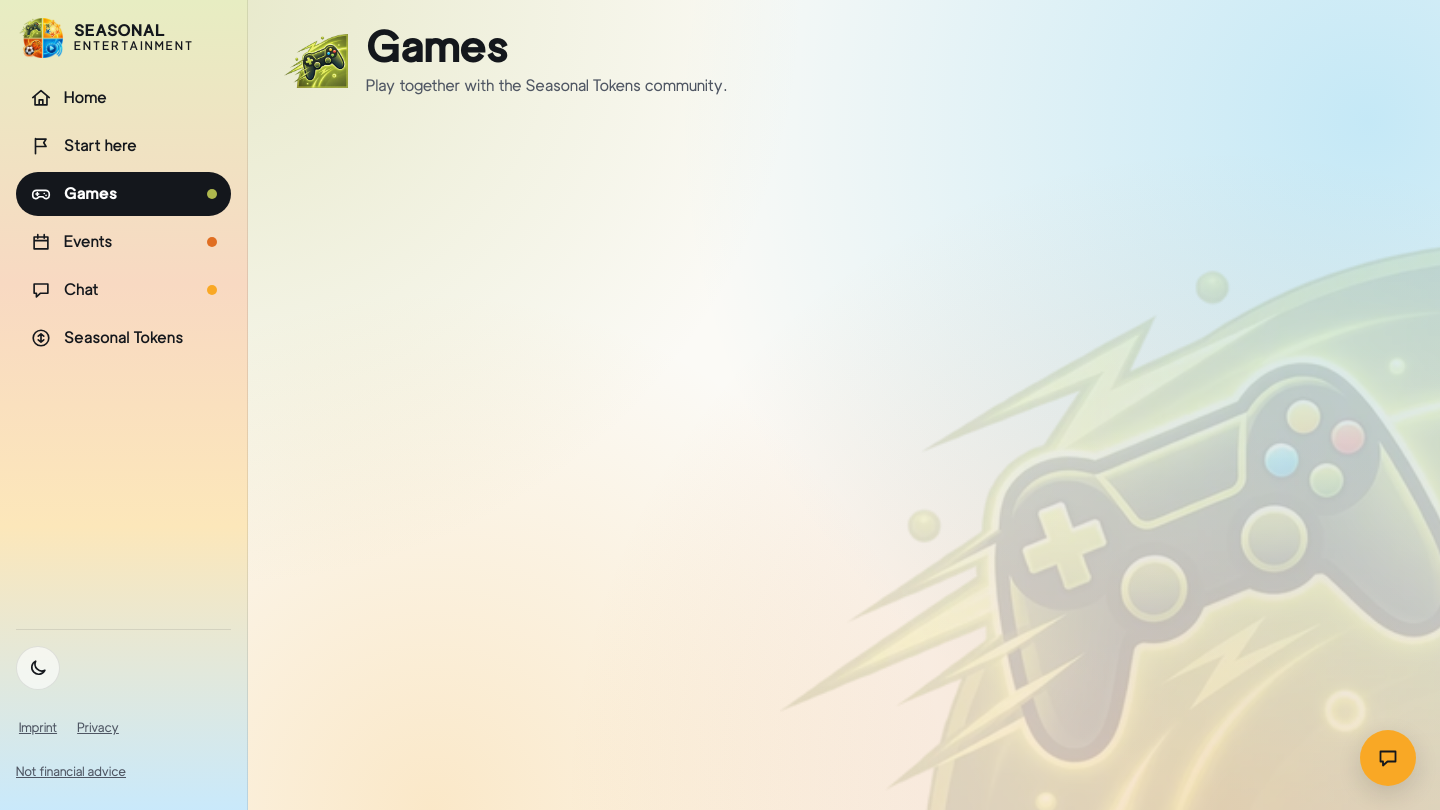
Test: the drawer › the close button closes it too; "Open full chat" leads to /chat
Click the button named "Chat": point(1388, 758) [1360,730,1416,786]
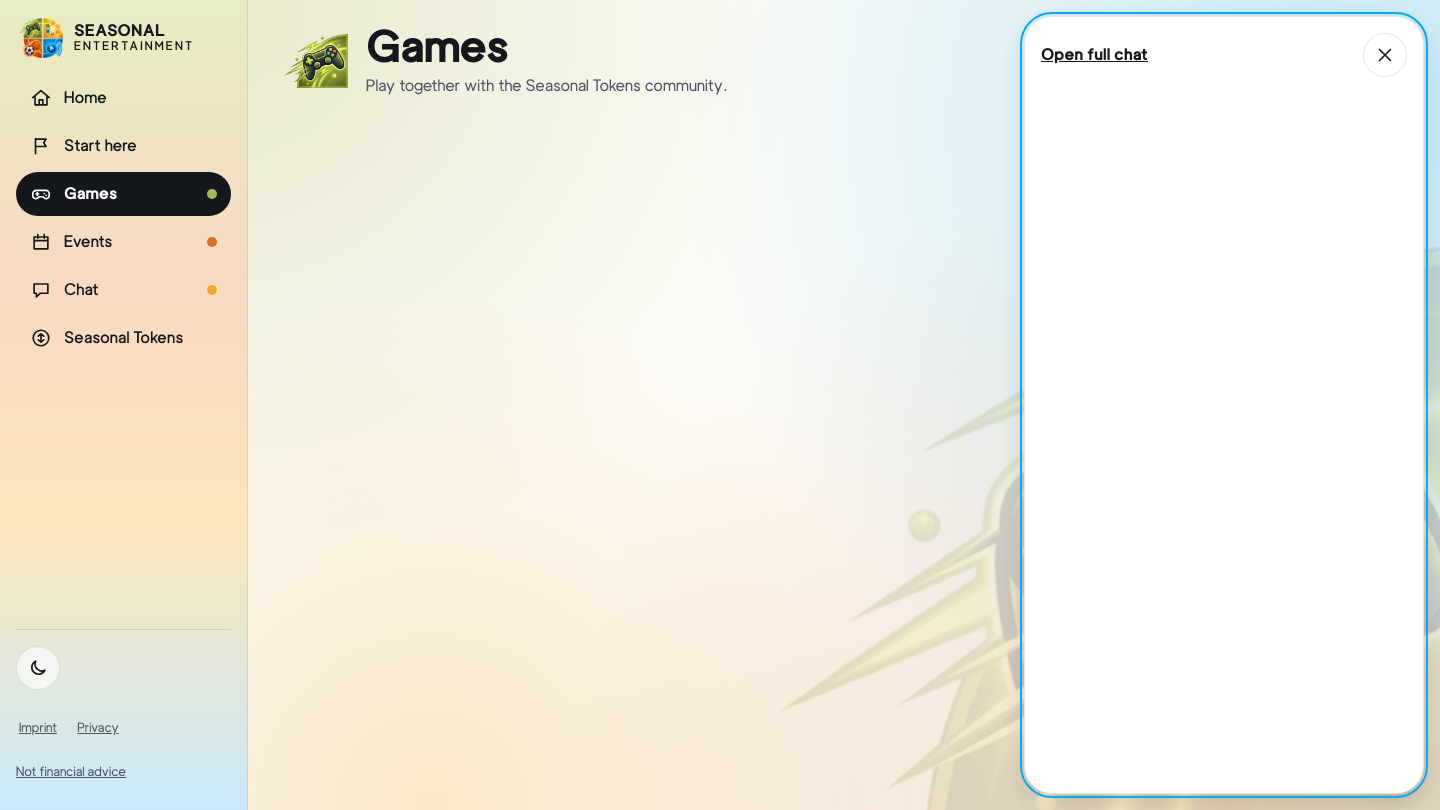
Click the button named "Close chat": point(1385, 55) [1363,33,1407,77]
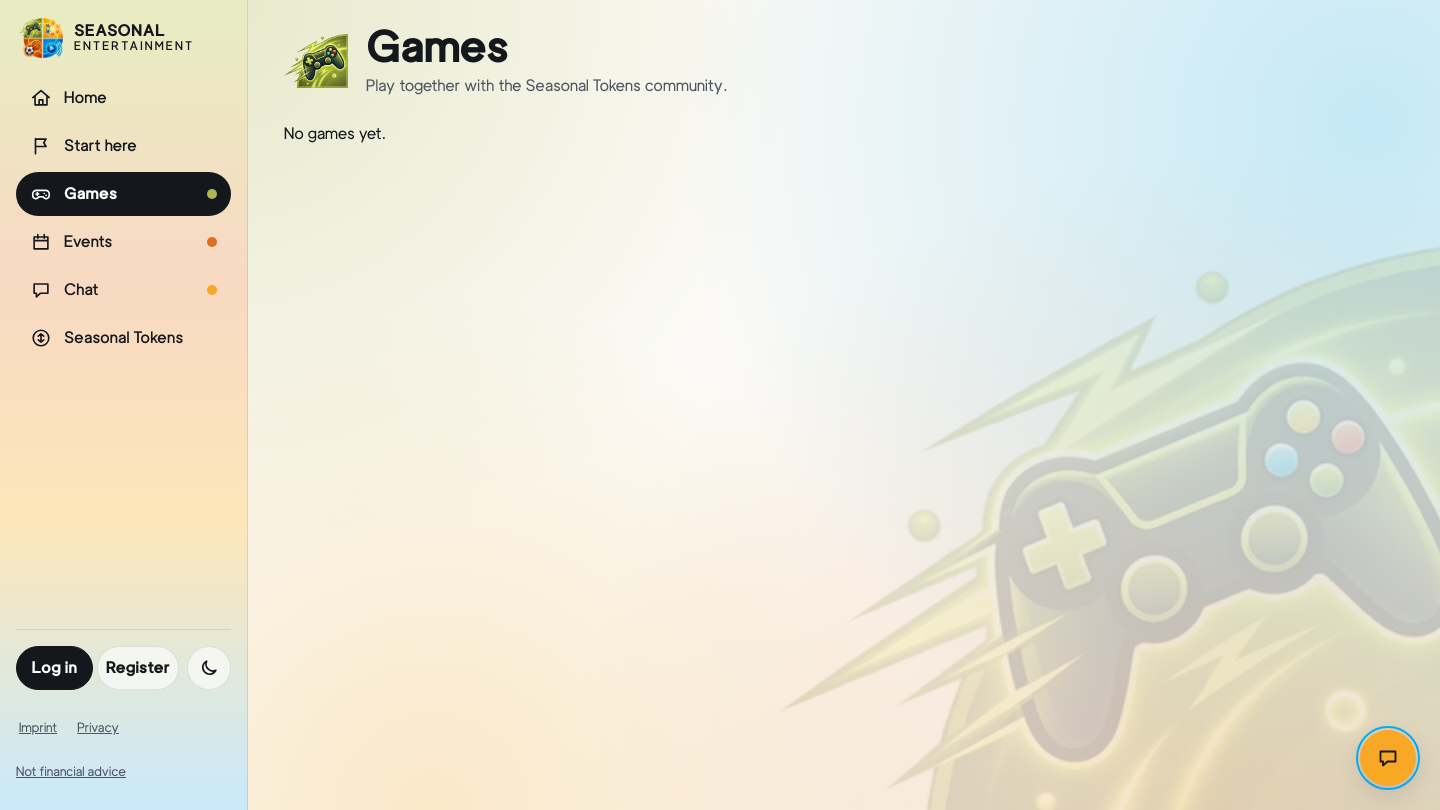
Now the dialog "Open full chat" is gone
